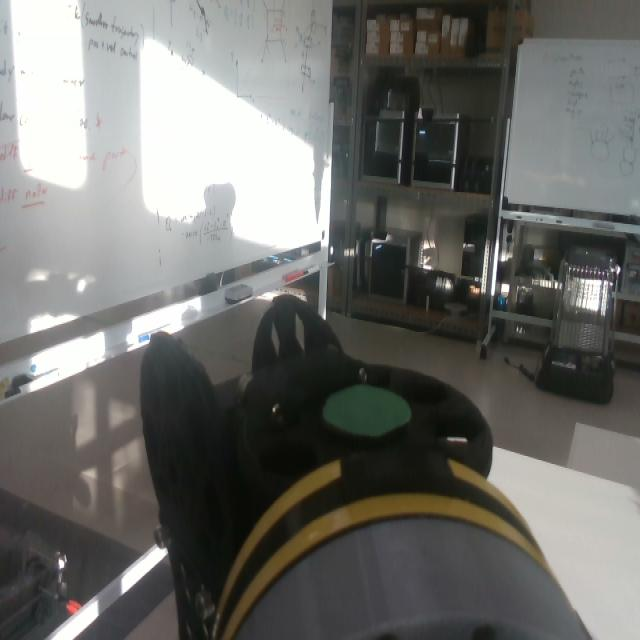body_connector: (233, 516, 592, 640)
connection: (209, 453, 593, 640)
leg: (137, 296, 548, 640)
leg_connector: (213, 452, 551, 640)
marker: (325, 387, 413, 434)
